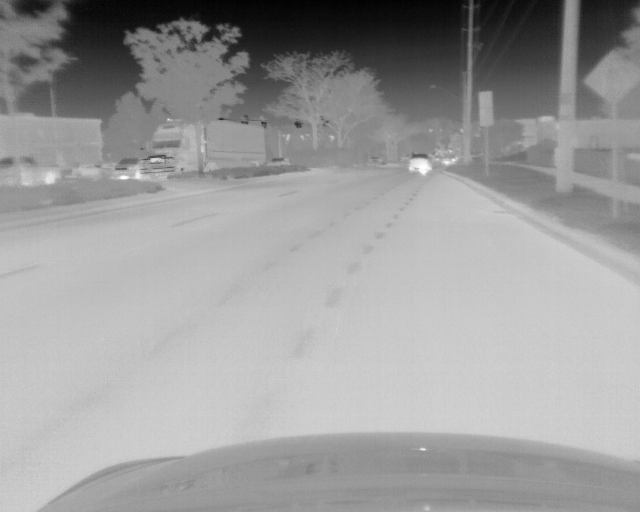car: (141, 119, 266, 178), (1, 155, 59, 186), (112, 157, 136, 178), (409, 153, 431, 173), (270, 156, 289, 167)
